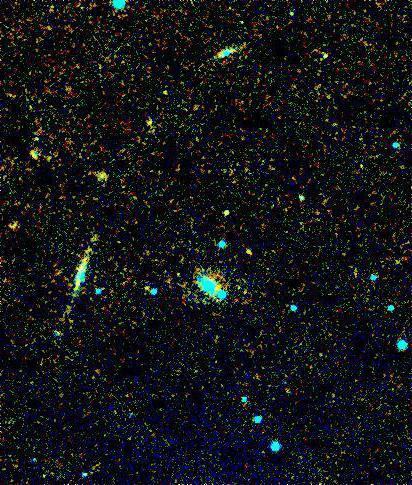star: (134, 273, 164, 303)
